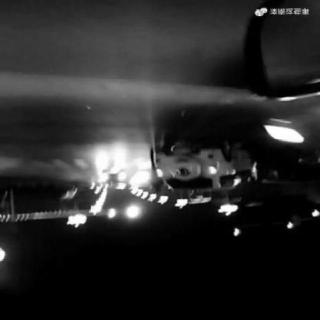other: (61, 164, 153, 233)
